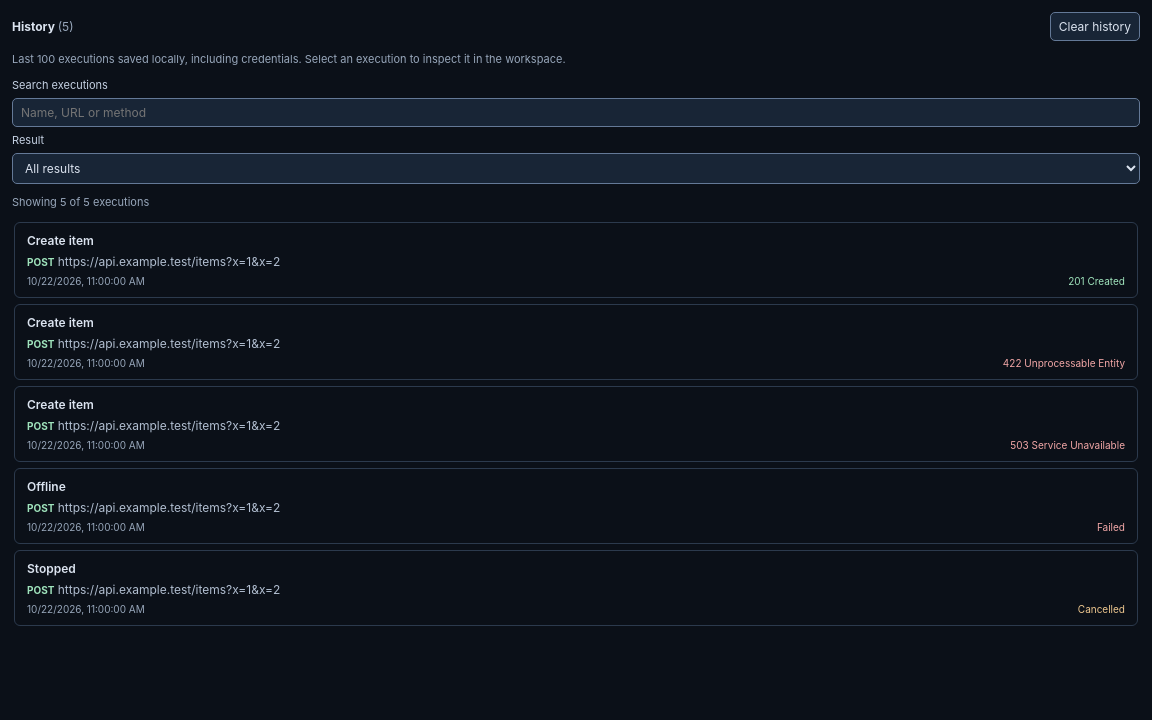
distinguishes HTTP error responses from transport errors and cancellations
Select "HTTP errors (4xx–5xx)" in the dropdown named "Filter execution results" at (576, 168), box [12, 152, 1140, 184]
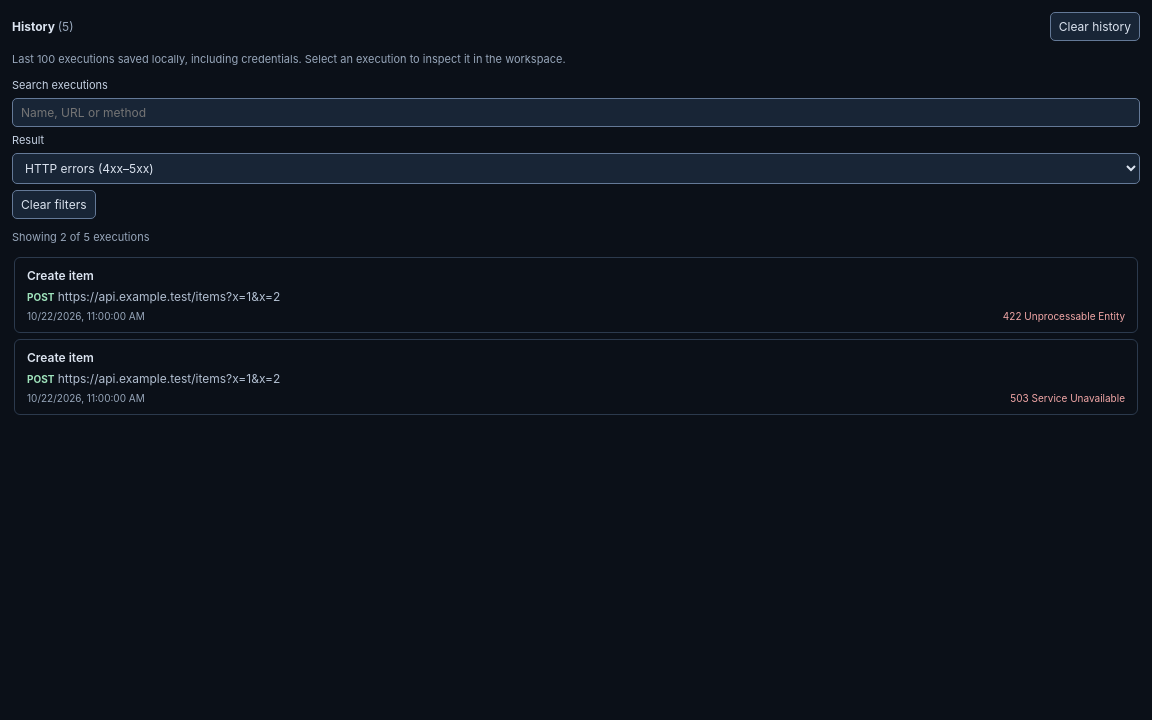
Expected: the elements with class "history-result" read "422 Unprocessable Entity", "503 Service Unavailable", in this order, [1003, 310, 1125, 322]; [1010, 392, 1125, 404]
Select "Transport errors" in the dropdown named "Filter execution results" at (576, 168), box [12, 152, 1140, 184]
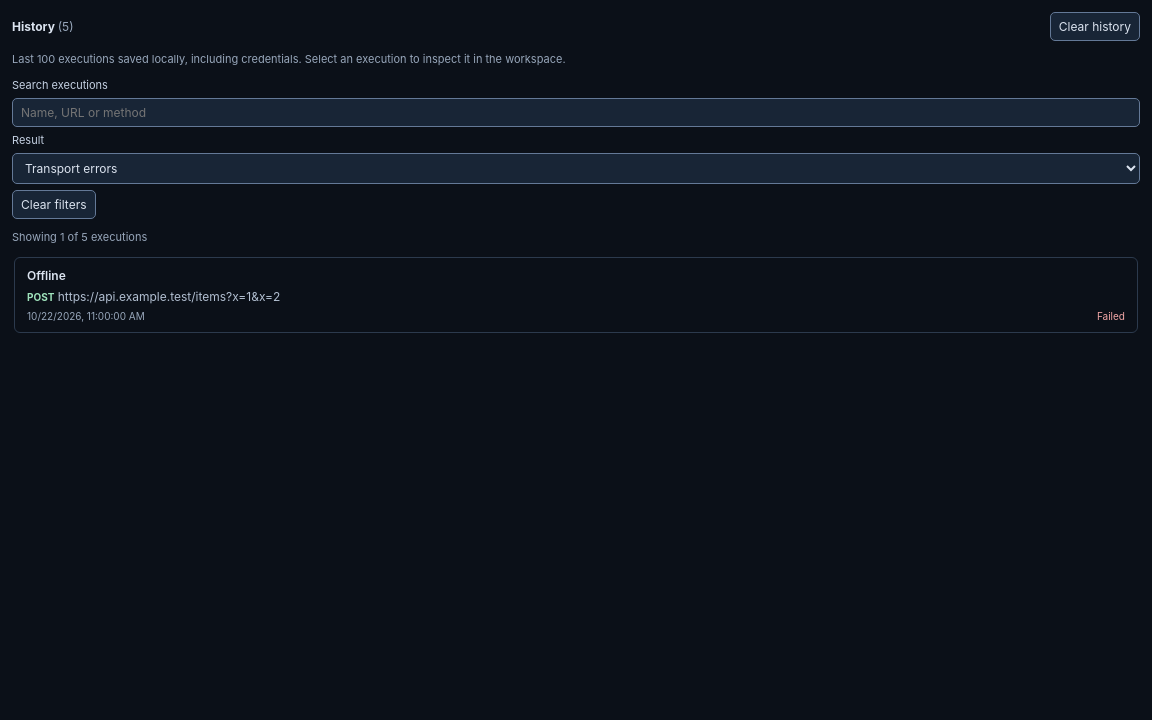
Expected: the text with class "history-name" reads "Offline", [27, 268, 66, 283]
Select "Cancelled" in the dropdown named "Filter execution results" at (576, 168), box [12, 152, 1140, 184]
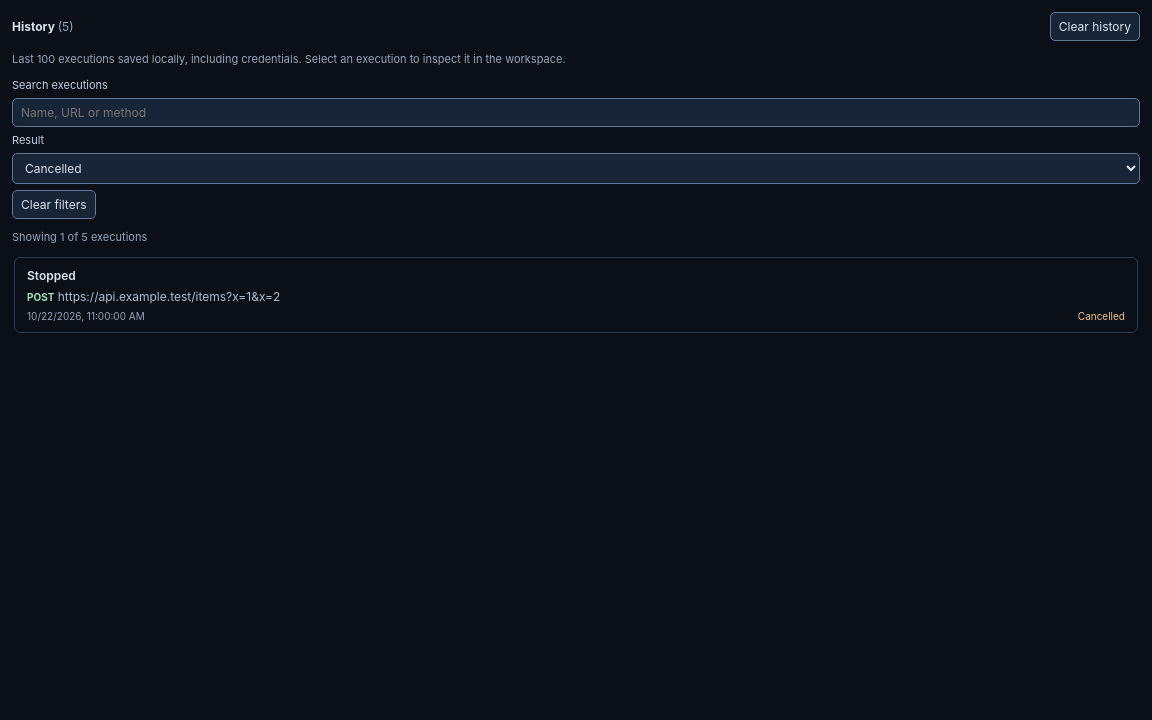
Expected: the text with class "history-name" reads "Stopped", [27, 268, 76, 283]
Select "HTTP 1xx–3xx" in the dropdown named "Filter execution results" at (576, 168), box [12, 152, 1140, 184]
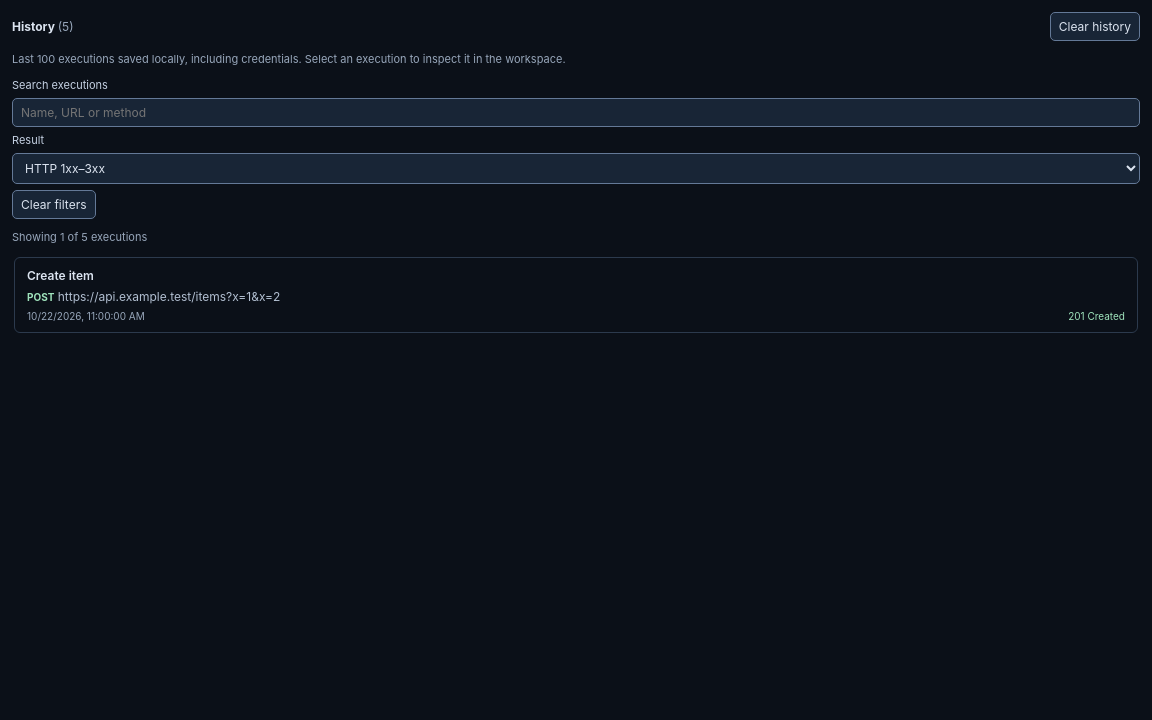
Expected: the text with class "history-result" reads "201 Created", [1068, 310, 1125, 322]
Type "missing" into the search field named "Search executions" at (576, 112), box [12, 98, 1140, 126]
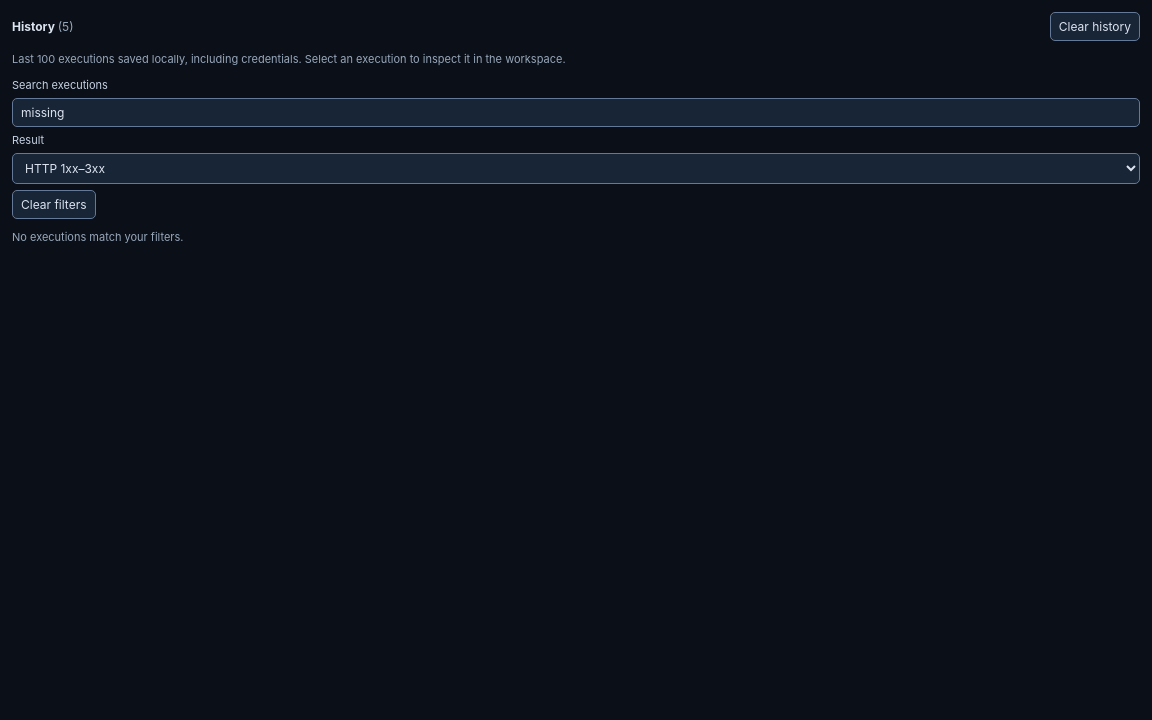
Expected: the message "No executions match your filters." is shown, [12, 230, 183, 244]
Click the button with class "clear-filters" at (54, 204), box [12, 190, 96, 218]
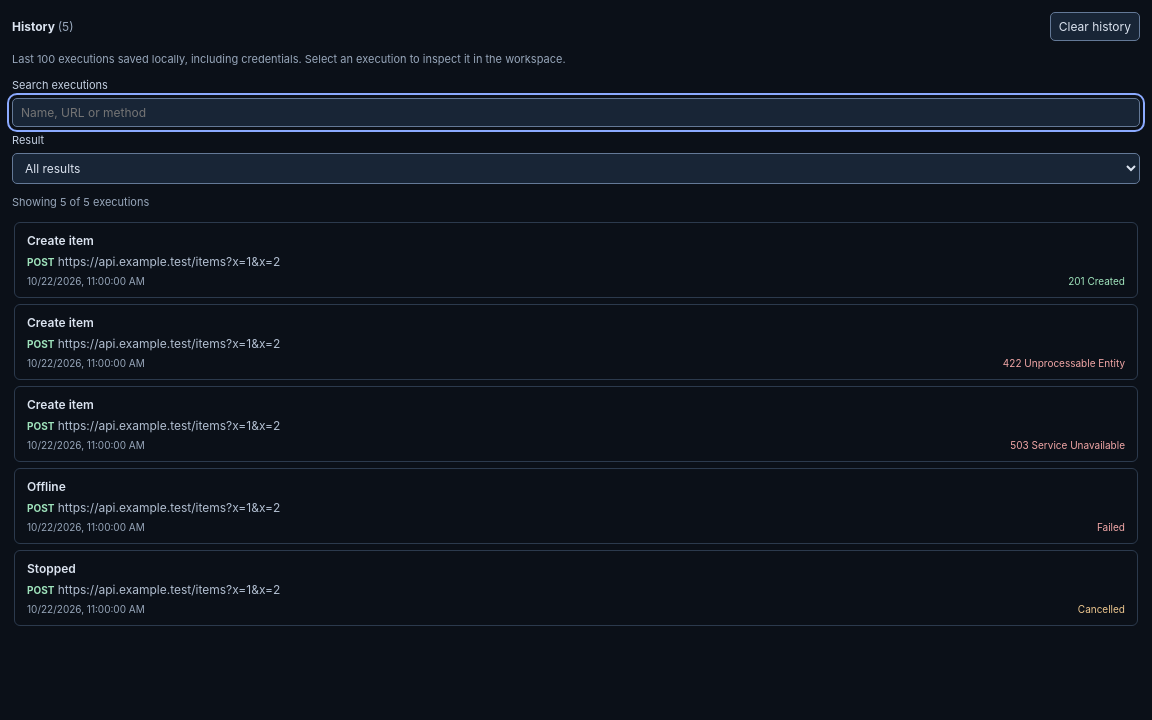
Expected: the number of buttons with class "history-select" is 5, [19, 227, 1133, 293]; [19, 309, 1133, 375]; [19, 391, 1133, 457]; [19, 473, 1133, 539]; [19, 555, 1133, 621]
